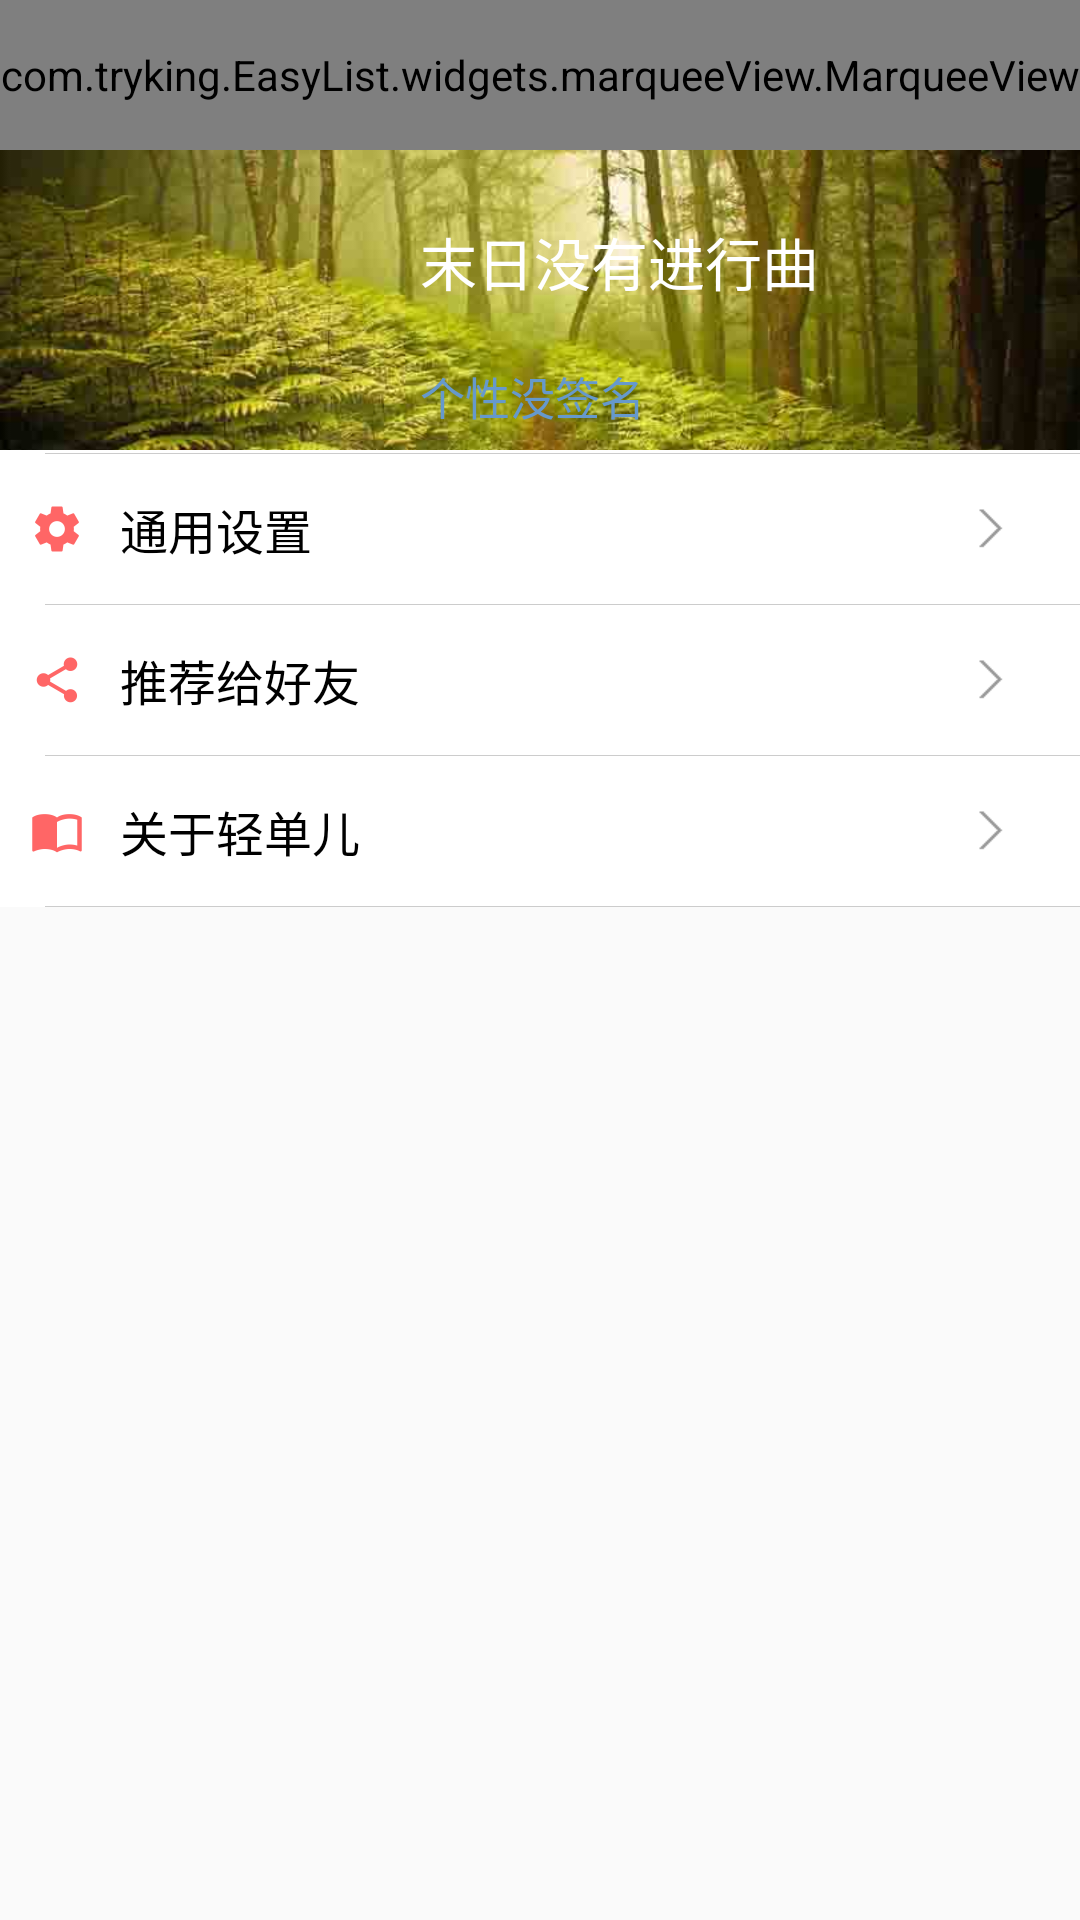

Screen size 1080*1920. Icon name, then its box in pixels as [x1, y1, x2, y2]:
right arrow: [979, 509, 1002, 547], [979, 660, 1002, 698], [979, 811, 1002, 849]
